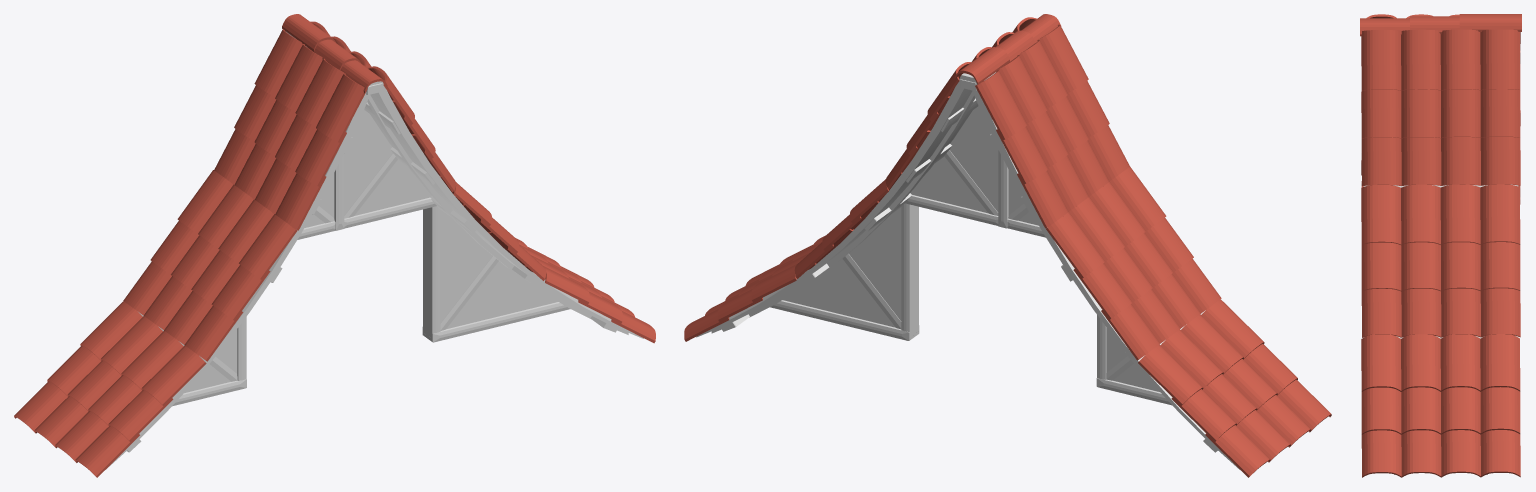
File: S_Roof_Frame.fbx
3 renders of one model, left to right at view 1: azimuth 30°, elevation 25°; view 2: azimuth 150°, elevation 25°; view 3: azimuth 270°, elevation 25°, orthographic. The views are drawn at different scales.
Visible parts, largest first — view 1: S_Roof_Tiles.001, S_Roof_Frame, Cube.019, Cube.061, Cube.036, Cube.040; view 2: S_Roof_Tiles.001, S_Roof_Frame, Cube.019, Cube.061, Cube.036, Cube.040; view 3: S_Roof_Tiles.001.
Boxes of the visible parts, box(x1,y1,x2,y2) form: S_Roof_Tiles.001: box(14, 14, 655, 477); S_Roof_Frame: box(106, 31, 643, 469); Cube.019: box(422, 206, 570, 342); Cube.061: box(297, 153, 436, 239); Cube.036: box(172, 317, 246, 406); Cube.040: box(127, 83, 617, 452); S_Roof_Tiles.001: box(684, 14, 1331, 477); S_Roof_Frame: box(696, 72, 1240, 470); Cube.019: box(770, 203, 919, 340); Cube.061: box(905, 150, 1045, 237); Cube.036: box(1096, 315, 1172, 405); Cube.040: box(721, 79, 1217, 452); S_Roof_Tiles.001: box(1360, 14, 1521, 477).
Bounding box in the file's own units: 1418 × 804 × 357.
